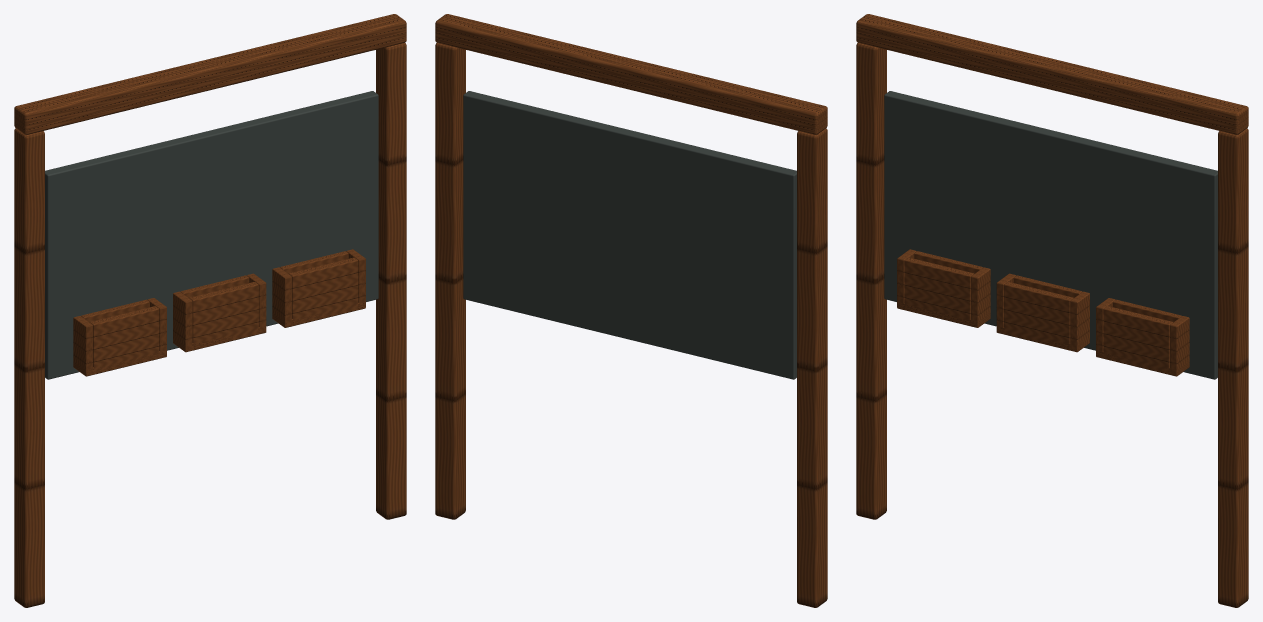
The picture shows the model from 3 angles, left to right: view 1: azimuth 30°, elevation 25°; view 2: azimuth 150°, elevation 25°; view 3: azimuth 330°, elevation 25°; orthographic projection.
Parts seen in each view (by area): view 1: request-board; view 2: request-board; view 3: request-board.
Part boxes in pixels (x1,y1,x2,y2): request-board: (14, 14, 406, 607); request-board: (435, 14, 827, 607); request-board: (856, 14, 1248, 607).
Bounding box in the file's own units: 1.27 × 1.57 × 0.125.
2 materials, 1 textured.
